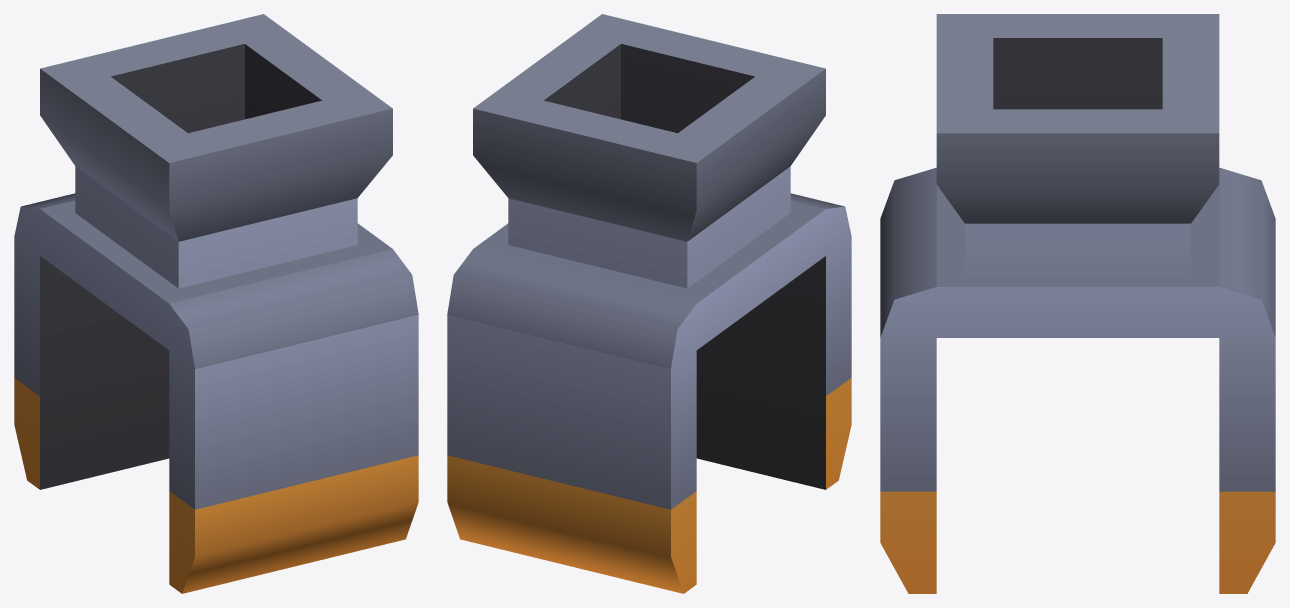
The picture shows the model from 3 angles, left to right: view 1: azimuth 30°, elevation 25°; view 2: azimuth 150°, elevation 25°; view 3: azimuth 270°, elevation 25°; orthographic projection. The views are drawn at different scales.
Parts seen in each view (by area): view 1: cover_stripe_hopper; view 2: cover_stripe_hopper; view 3: cover_stripe_hopper.
Boxes of the visible parts, <box> form: cover_stripe_hopper: <box>14,14,418,593</box>; cover_stripe_hopper: <box>447,14,851,593</box>; cover_stripe_hopper: <box>880,14,1275,593</box>.
Size of the model in its own units: 1 by 1.8 by 1.4.
Materials: 1 (1 with a texture image).
